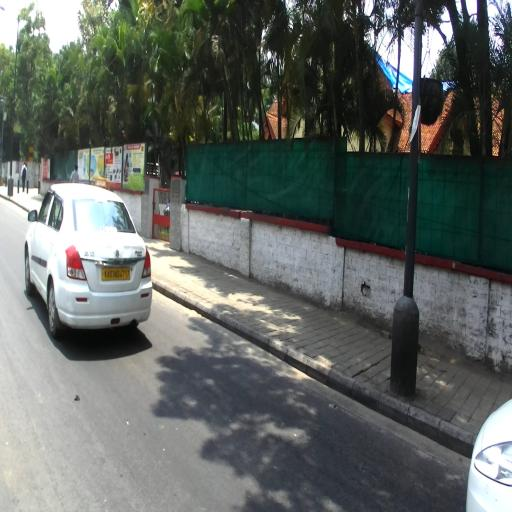street_light_0: (0, 6, 20, 22)
